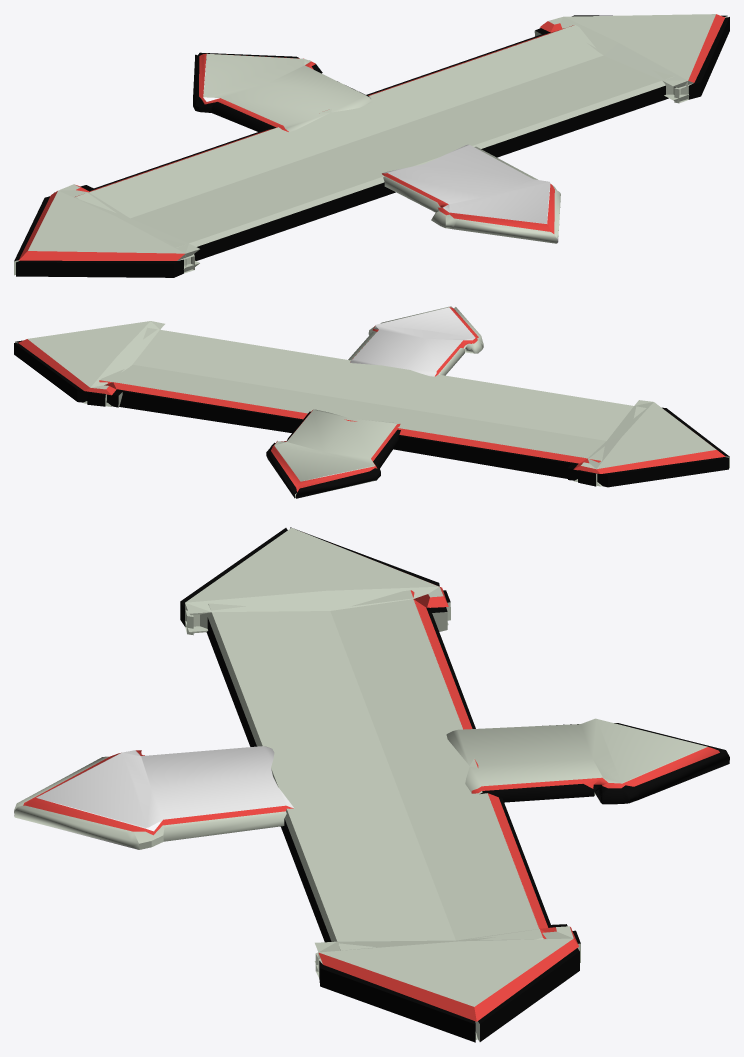
Rendered from arrow buttons.fbx.
3 views of the same model, one above another, from view 1: azimuth 30°, elevation 25°; view 2: azimuth 150°, elevation 25°; view 3: azimuth 270°, elevation 25° (orthographic). The views are drawn at different scales.
Visible parts, largest first — view 1: Plane.007, Plane.009, Plane.008; view 2: Plane.007, Plane.008, Plane.009; view 3: Plane.007, Plane.009, Plane.008.
Boxes of the visible parts, box(x1,y1,x2,y2) form: Plane.007: box(14, 14, 729, 277); Plane.009: box(382, 144, 560, 243); Plane.008: box(193, 52, 372, 132); Plane.007: box(14, 321, 729, 487); Plane.008: box(266, 409, 400, 498); Plane.009: box(348, 306, 483, 376); Plane.007: box(180, 527, 580, 1042); Plane.009: box(14, 746, 293, 849); Plane.008: box(446, 718, 729, 804).
Bounding box in the file's own units: 372 × 16.18 × 226.
